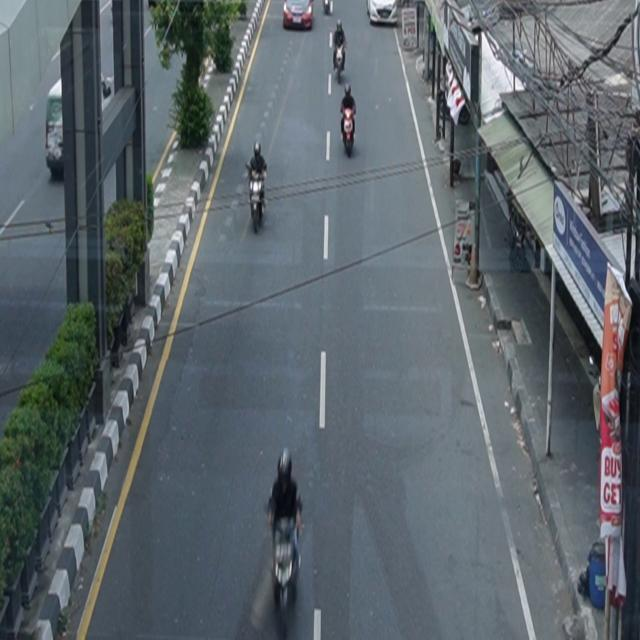car: (284, 1, 315, 31), (367, 1, 398, 26)
